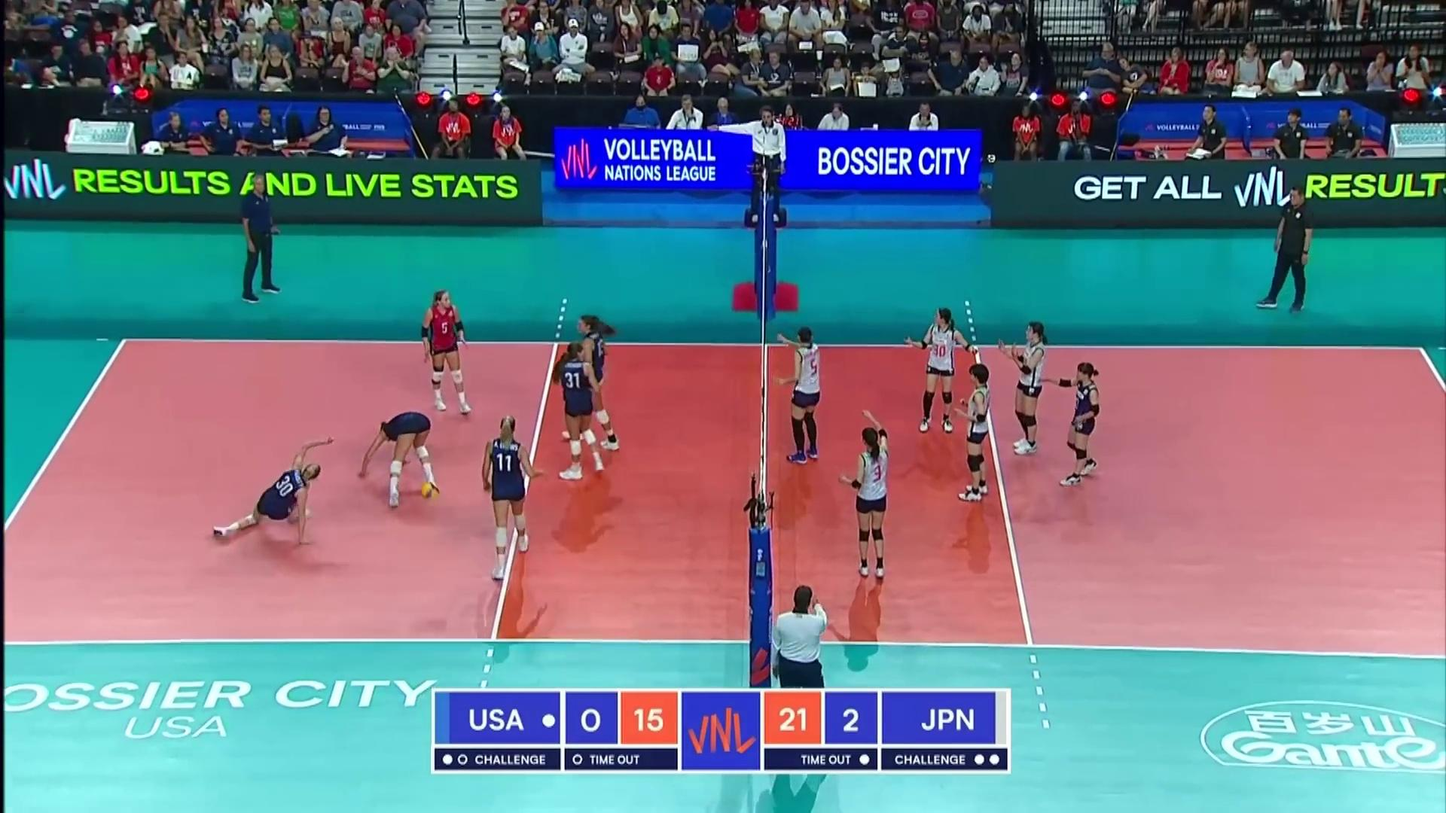player: (218, 438, 333, 548), (479, 415, 544, 576), (838, 409, 895, 581), (561, 314, 621, 452), (359, 411, 441, 504), (909, 305, 969, 431), (1050, 362, 1108, 485), (555, 344, 607, 480), (420, 291, 474, 413), (1001, 320, 1048, 456), (780, 329, 824, 462), (953, 364, 993, 503)
refree: (770, 586, 830, 775), (719, 106, 786, 221)
